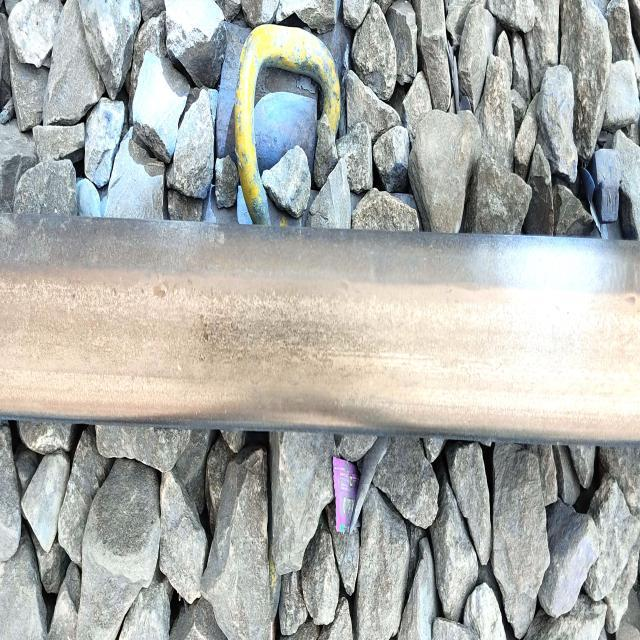Good Fasteners: (203, 0, 351, 240)
